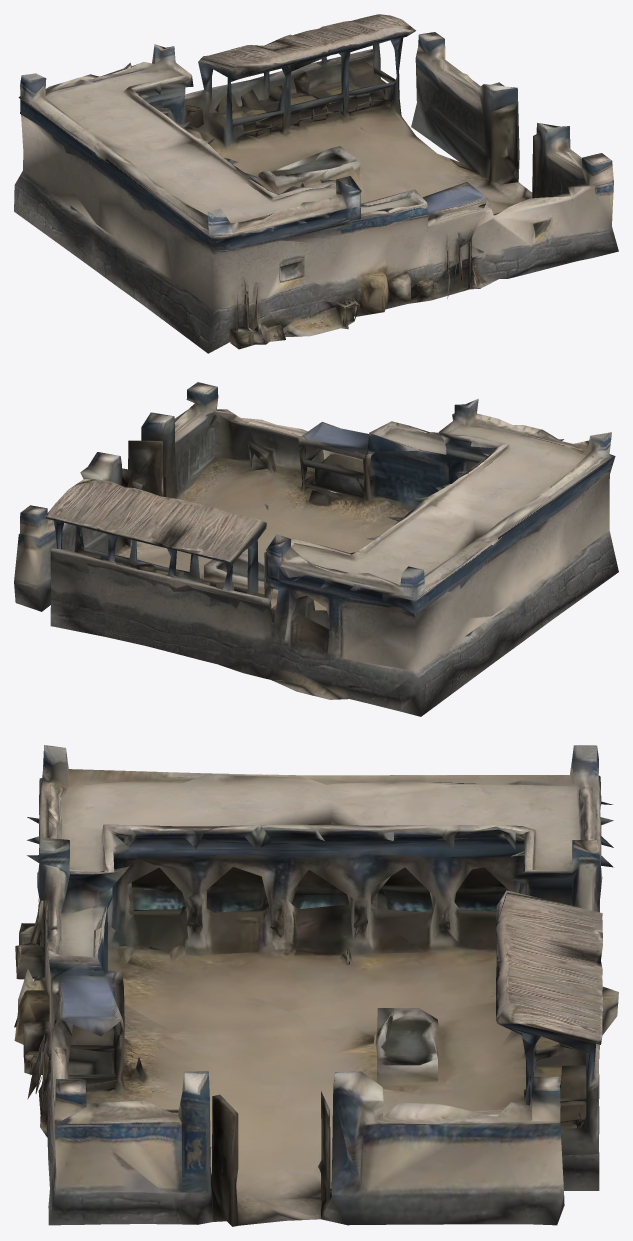
File: stable_1.glb
3 renders of one model, top to bottom at view 1: azimuth 30°, elevation 25°; view 2: azimuth 150°, elevation 25°; view 3: azimuth 270°, elevation 25°, orthographic. The views are drawn at different scales.
Parts seen in each view (by area): view 1: tripo_node_db68e477-cb60-4a07-aef6-d2a8915620bf; view 2: tripo_node_db68e477-cb60-4a07-aef6-d2a8915620bf; view 3: tripo_node_db68e477-cb60-4a07-aef6-d2a8915620bf.
Boxes of the visible parts, x1,y1,x2,y2 form: tripo_node_db68e477-cb60-4a07-aef6-d2a8915620bf: (14,14,618,353); tripo_node_db68e477-cb60-4a07-aef6-d2a8915620bf: (14,382,618,716); tripo_node_db68e477-cb60-4a07-aef6-d2a8915620bf: (14,745,618,1226).
Size of the model in its own units: 0.9774 by 0.3074 by 0.8586.
1 material, 1 textured.
